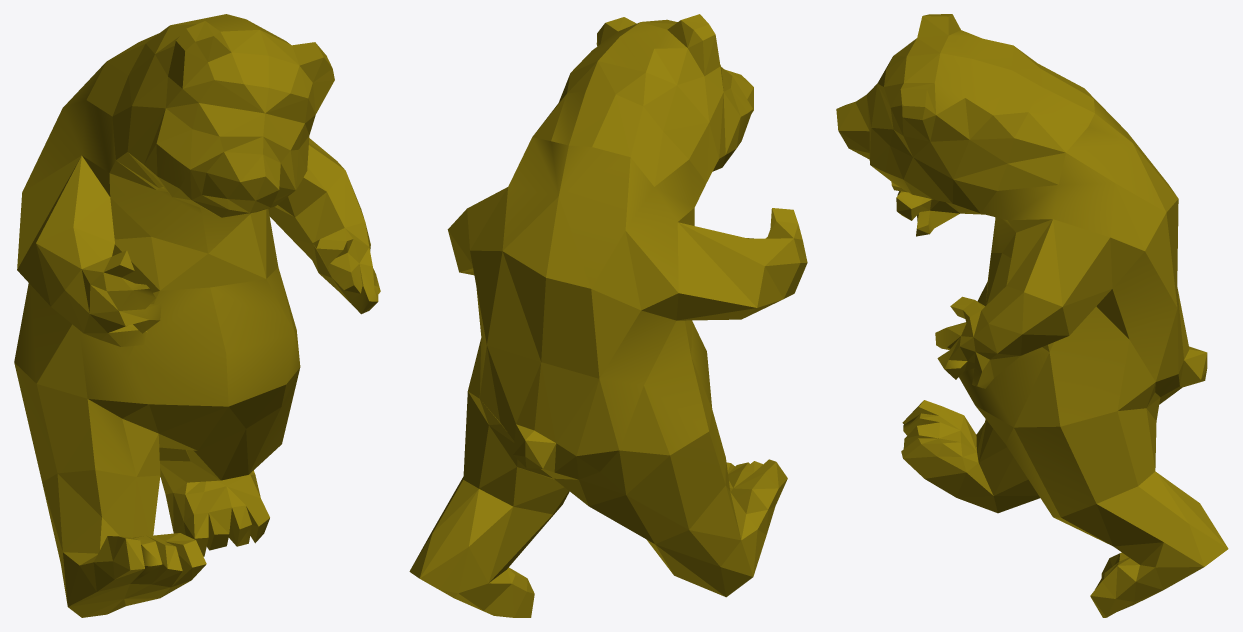
The model's file is bear.dae.
The picture shows the model from 3 angles, left to right: view 1: azimuth 30°, elevation 25°; view 2: azimuth 150°, elevation 25°; view 3: azimuth 270°, elevation 25°; orthographic projection. The views are drawn at different scales.
Visible parts, largest first — view 1: bear_walk_Mesh; view 2: bear_walk_Mesh; view 3: bear_walk_Mesh.
Part boxes in pixels (bbox=[...]): bear_walk_Mesh: bbox=[14, 14, 380, 617]; bear_walk_Mesh: bbox=[409, 14, 807, 617]; bear_walk_Mesh: bbox=[836, 14, 1228, 617].
Size of what is drawn, in the model's own units: 340 by 605 by 394.
